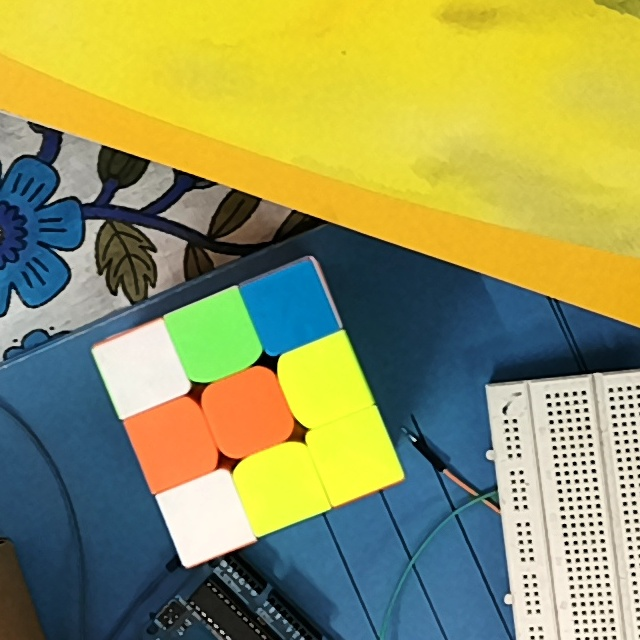tile: (141, 412, 201, 472), (216, 385, 278, 442), (326, 426, 383, 485), (184, 310, 244, 365), (261, 282, 322, 336), (111, 344, 170, 397), (294, 354, 351, 408), (178, 490, 234, 544), (253, 457, 307, 513)
